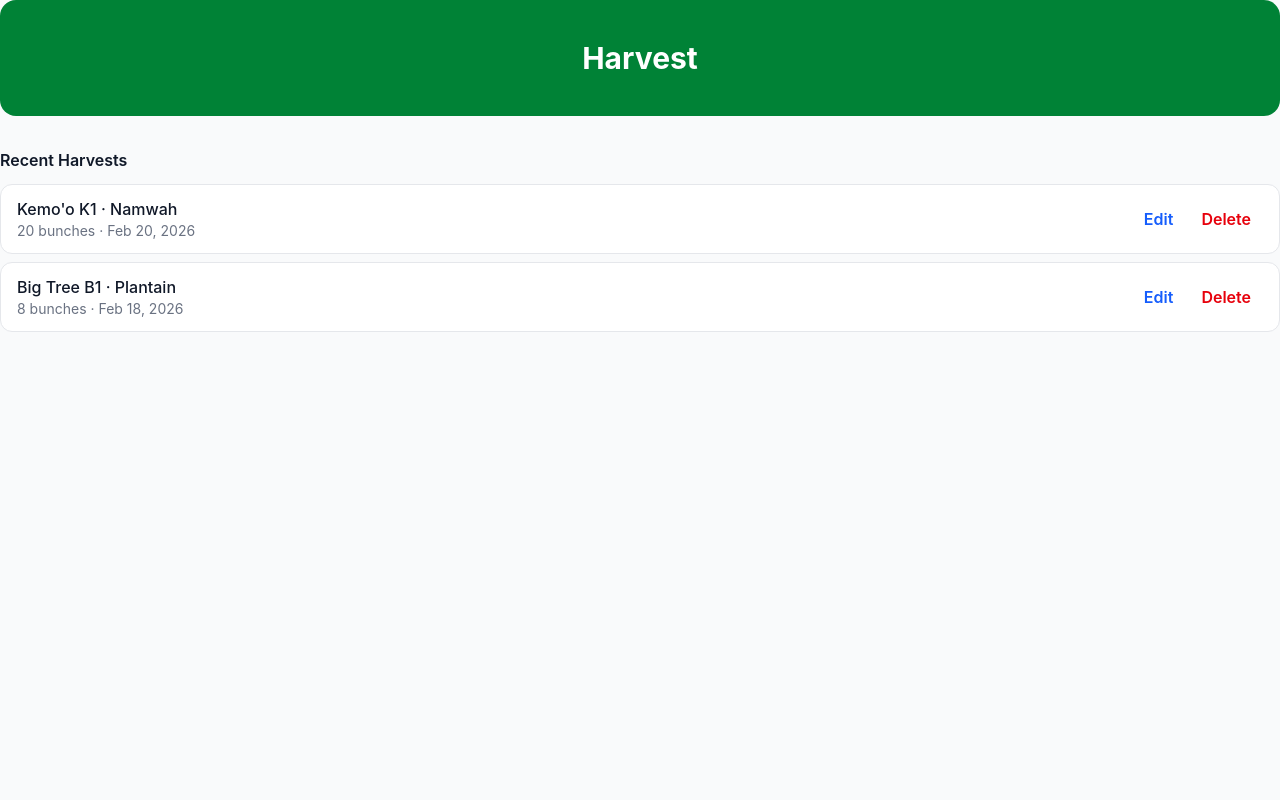
Test: edit harvest overlay › closes edit overlay and returns to idle when ✕ is clicked
Click the button "Edit" in the row of "Feb 20, 2026". click: [1159, 219]
box: [1132, 199, 1185, 239]
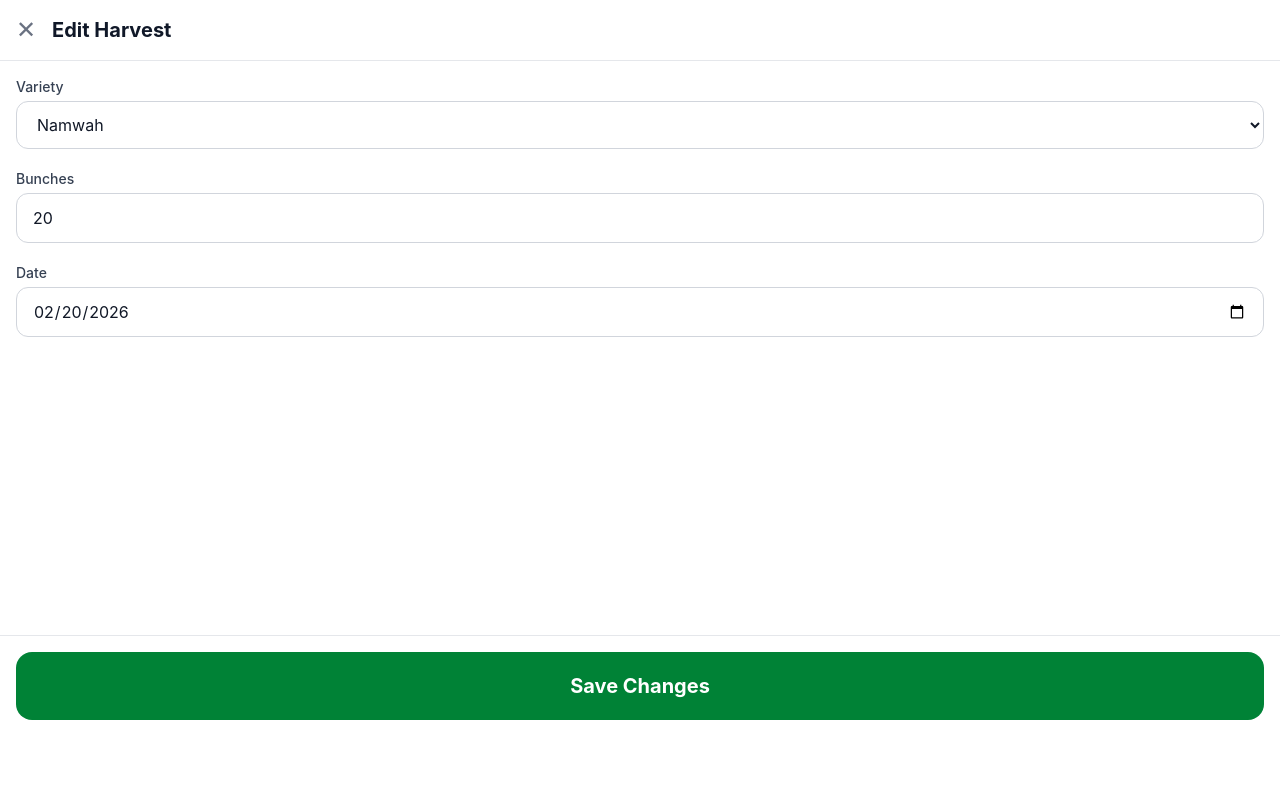
Click the button "✕". click: [26, 30]
box: [16, 18, 36, 42]
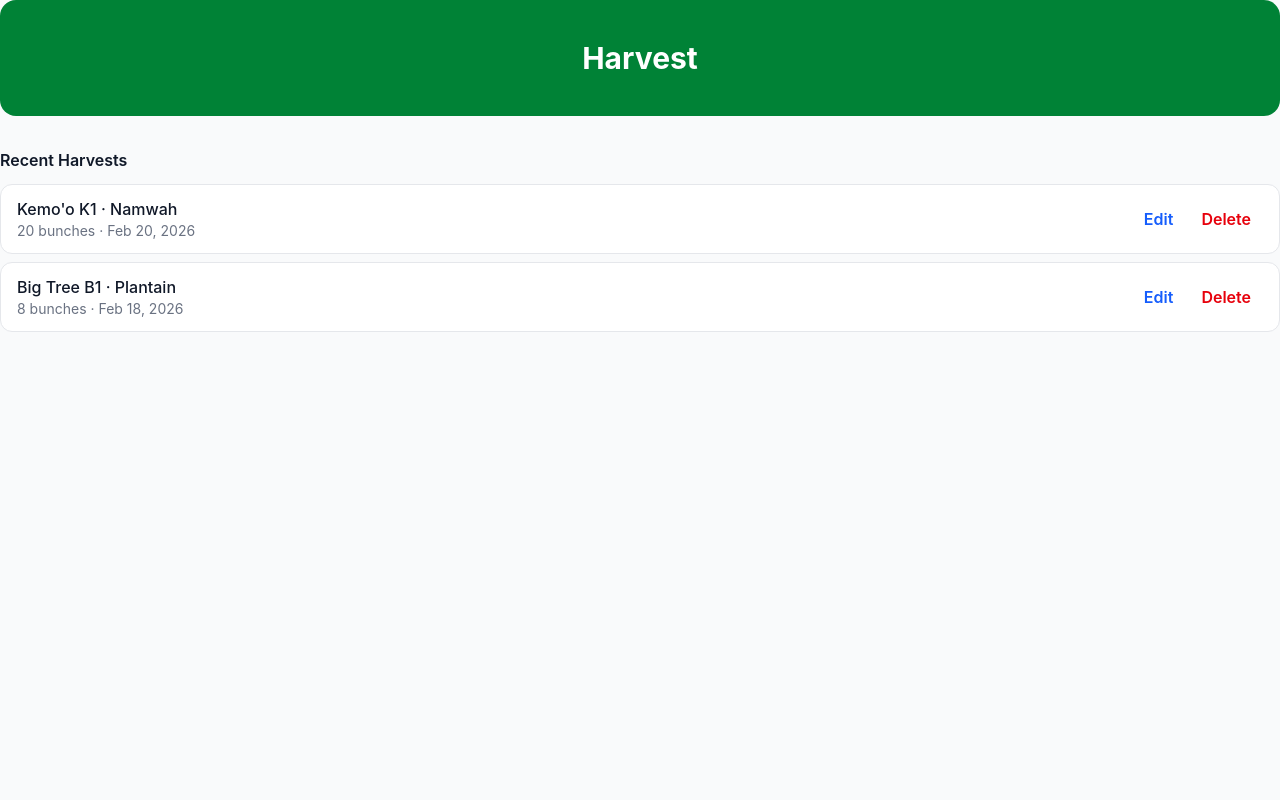
Now the heading "Edit Harvest" is gone
Now the button "Harvest" is shown, box [0, 0, 1279, 116]
